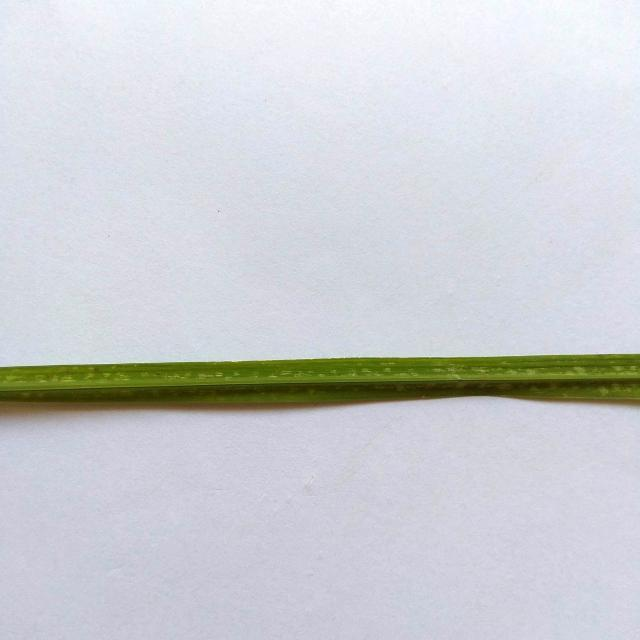brownspots: (90, 364, 104, 374), (44, 373, 56, 378)
